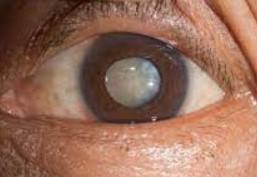eye: (82, 35, 187, 123)
